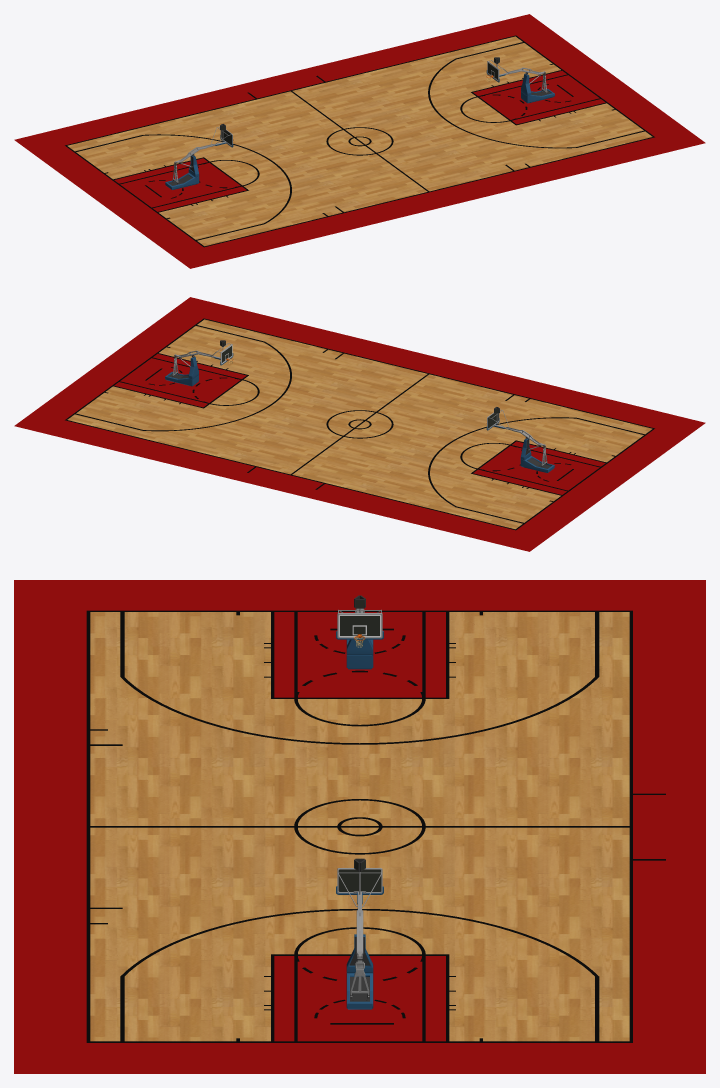
The model's file is court-lower-red-2.fbx.
3 renders of one model, top to bottom at view 1: azimuth 30°, elevation 25°; view 2: azimuth 150°, elevation 25°; view 3: azimuth 270°, elevation 25°, orthographic. The views are drawn at different scales.
Parts seen in each view (by area): view 1: court_wood, court_red_, court_line, backboard0, backboard; view 2: court_wood, court_red_, court_line, backboard0, backboard; view 3: court_wood, court_red_, court_line, backboard, backboard0.
Boxes of the visible parts, x1,y1,x2,y2 form: court_wood: (67, 36, 652, 246); court_red_: (14, 14, 705, 268); court_line: (65, 35, 654, 247); backboard0: (165, 124, 233, 189); backboard: (486, 57, 554, 103); court_wood: (67, 319, 652, 529); court_red_: (14, 297, 705, 551); court_line: (65, 318, 654, 530); backboard0: (486, 407, 554, 472); backboard: (165, 340, 233, 386); court_wood: (90, 612, 629, 1041); court_red_: (14, 580, 705, 1073); court_line: (86, 610, 665, 1042); backboard: (336, 858, 383, 1009); backboard0: (336, 595, 383, 669).
Bounding box in the file's own units: 125 × 11.56 × 74.16.
14 materials, 1 textured.
